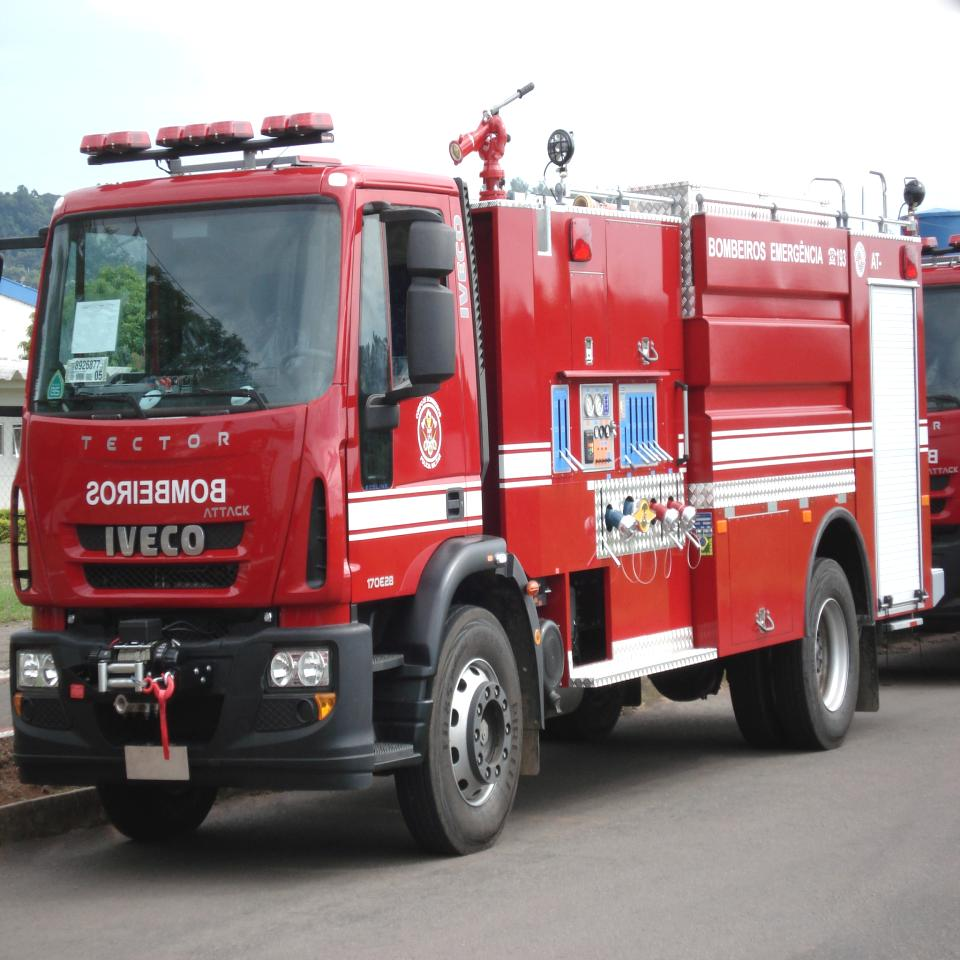bombeiro: (9, 82, 945, 856)
